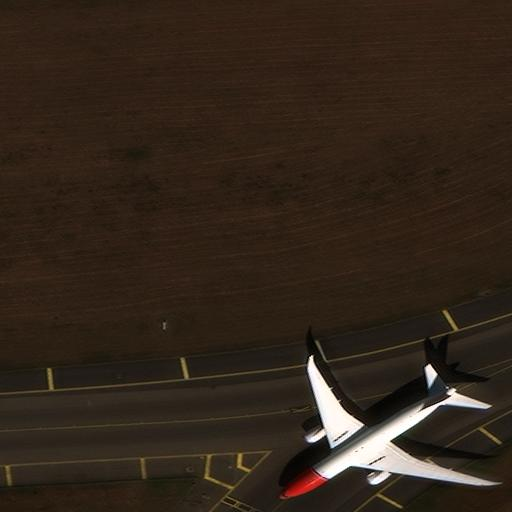Large Civil Transport: (279, 356, 489, 497)
